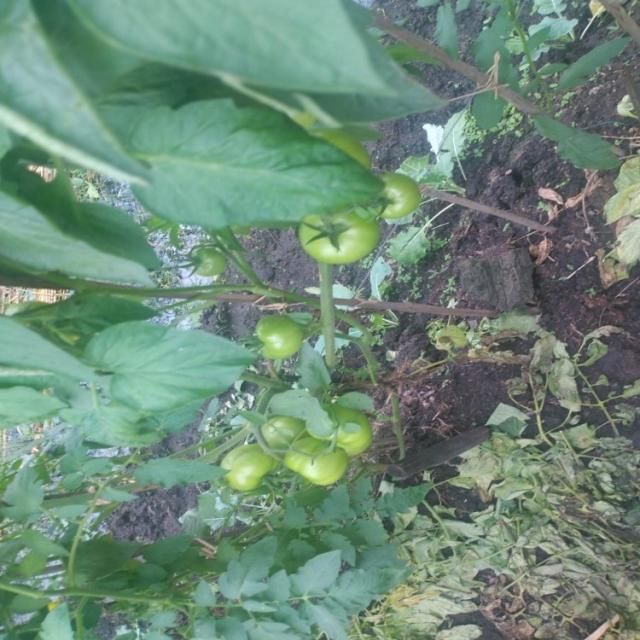tomato: (297, 191, 390, 269), (252, 300, 316, 372), (288, 437, 359, 487), (218, 435, 275, 494), (329, 393, 376, 462), (375, 164, 428, 220), (256, 408, 307, 451)
